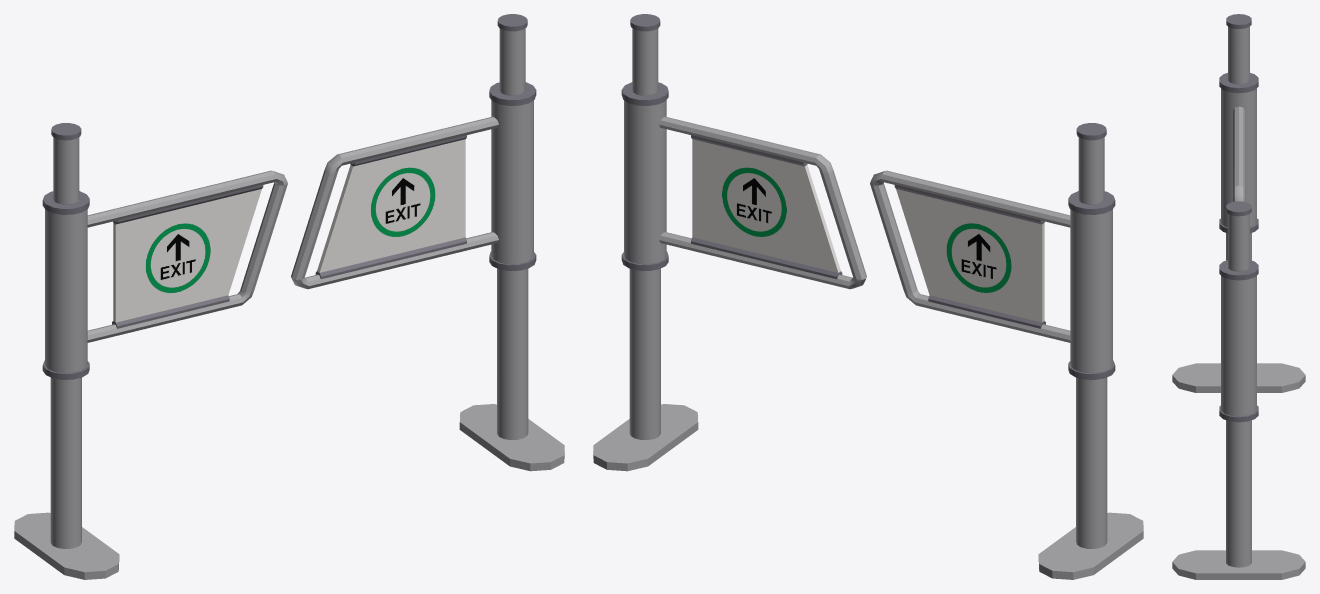
File: ExitGate_Textured_v1.fbx
3 renders of one model, left to right at view 1: azimuth 30°, elevation 25°; view 2: azimuth 150°, elevation 25°; view 3: azimuth 270°, elevation 25°, orthographic. The views are drawn at different scales.
Parts seen in each view (by area): view 1: pCylinder7 (×2), pCube5 (×2), pCylinder8 (×2), pCylinder9 (×2); view 2: pCylinder7 (×2), pCube5 (×2), pCylinder8 (×2), pCylinder9 (×2); view 3: pCylinder7 (×2), pCylinder9 (×2), pCylinder8.
Boxes of the visible parts, x1,y1,x2,y2 form: pCylinder7 (×2): (42,14,536,548); pCube5 (×2): (112,135,466,328); pCylinder8 (×2): (87,116,498,342); pCylinder9 (×2): (14,404,564,579); pCylinder7 (×2): (621,14,1115,548); pCube5 (×2): (691,135,1045,328); pCylinder8 (×2): (659,116,1070,342); pCylinder9 (×2): (593,404,1143,579); pCylinder7 (×2): (1219,14,1258,567); pCylinder9 (×2): (1172,363,1305,579); pCylinder8: (1233,106,1244,201).
Bounding box in the file's own units: 5 × 4.02 × 1.34.
